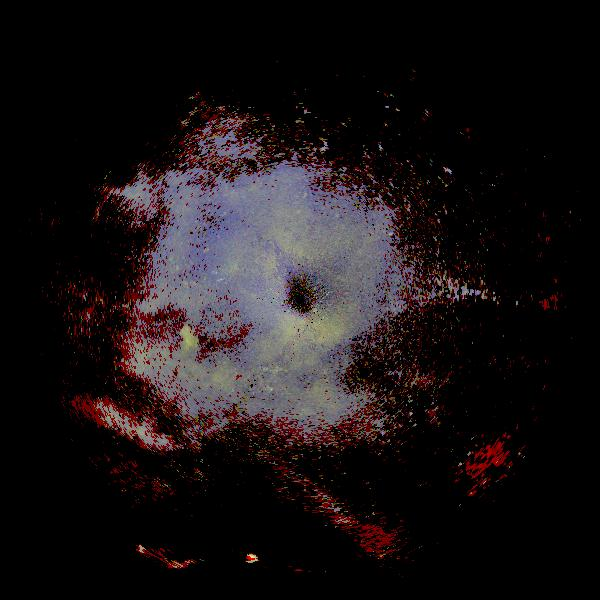roost: (117, 311, 225, 419)
